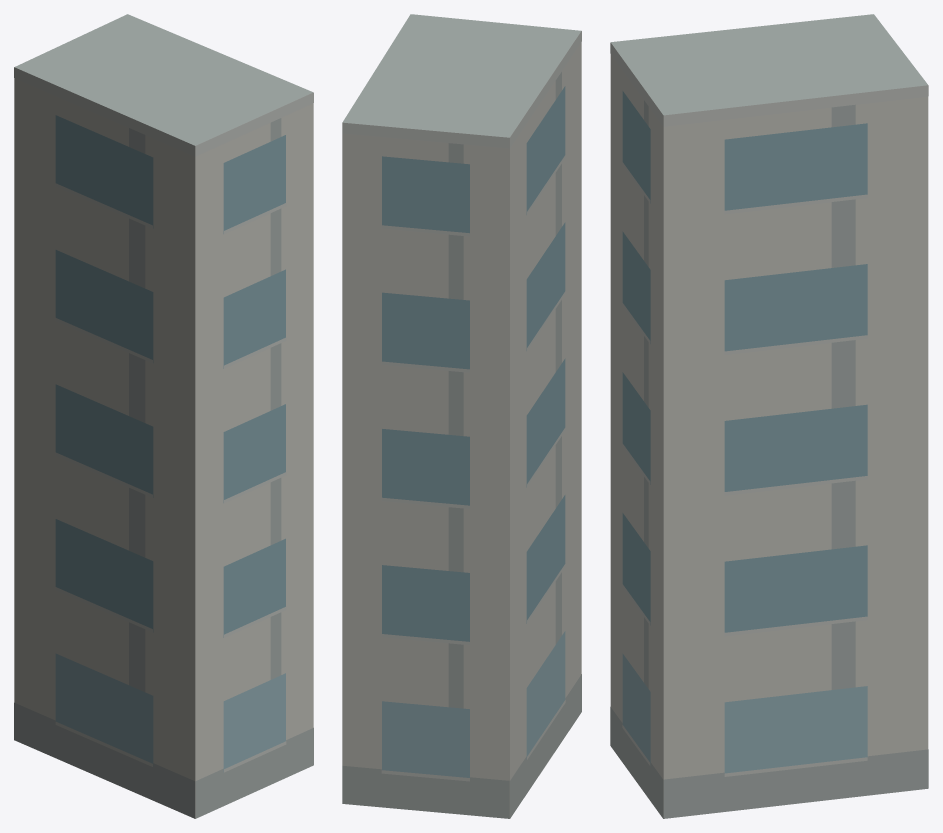
File: survey-upis-32639910.glb
3 renders of one model, left to right at view 1: azimuth 30°, elevation 25°; view 2: azimuth 150°, elevation 25°; view 3: azimuth 270°, elevation 25°, orthographic. The views are drawn at different scales.
Visible parts, largest first — view 1: survey-upis-32639910.tmp; view 2: survey-upis-32639910.tmp; view 3: survey-upis-32639910.tmp.
Boxes of the visible parts, left/top/right/bottom form: survey-upis-32639910.tmp: left=14, top=14, right=313, bottom=818; survey-upis-32639910.tmp: left=342, top=14, right=581, bottom=818; survey-upis-32639910.tmp: left=610, top=14, right=928, bottom=818.
Bounding box in the file's own units: 4.72 × 15.25 × 6.26.
